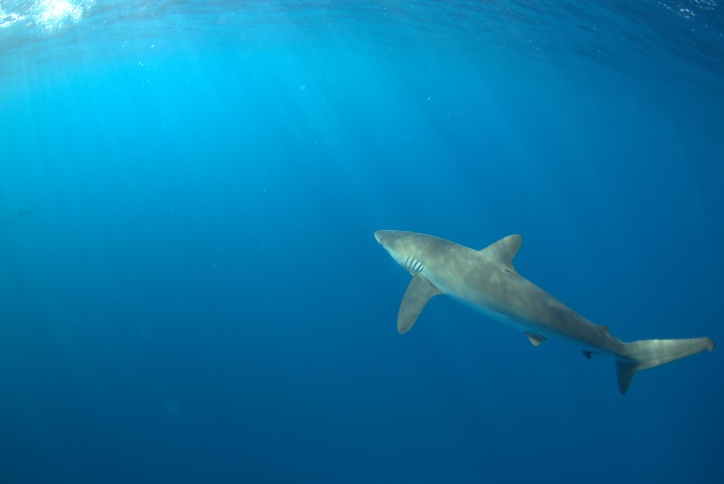Sedoso: (362, 214, 717, 408)
